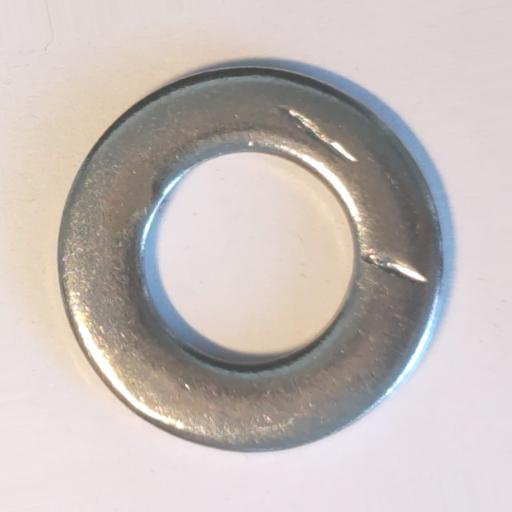scratch: (286, 109, 358, 163), (363, 251, 428, 283)
